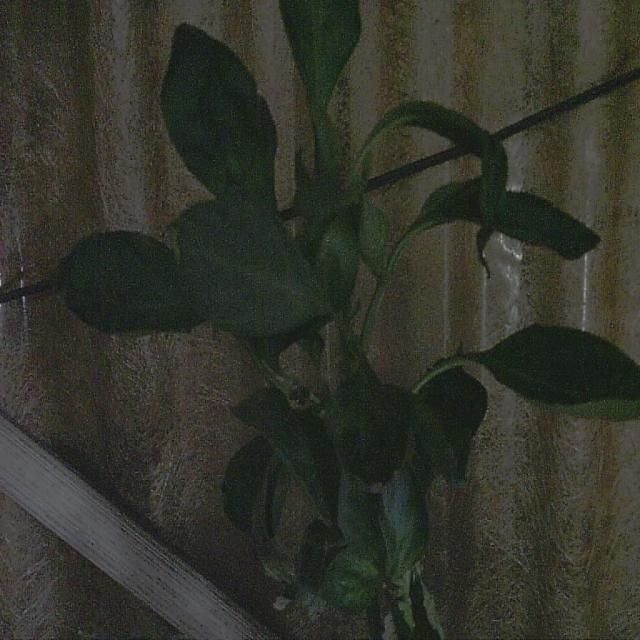Leaf: (172, 194, 327, 337), (162, 25, 276, 206), (470, 325, 639, 419), (56, 231, 206, 333)
